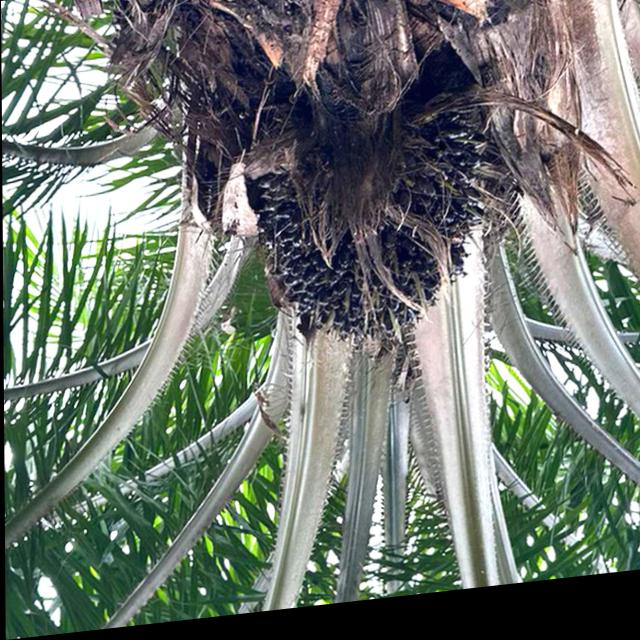unripe: (251, 110, 498, 367)
